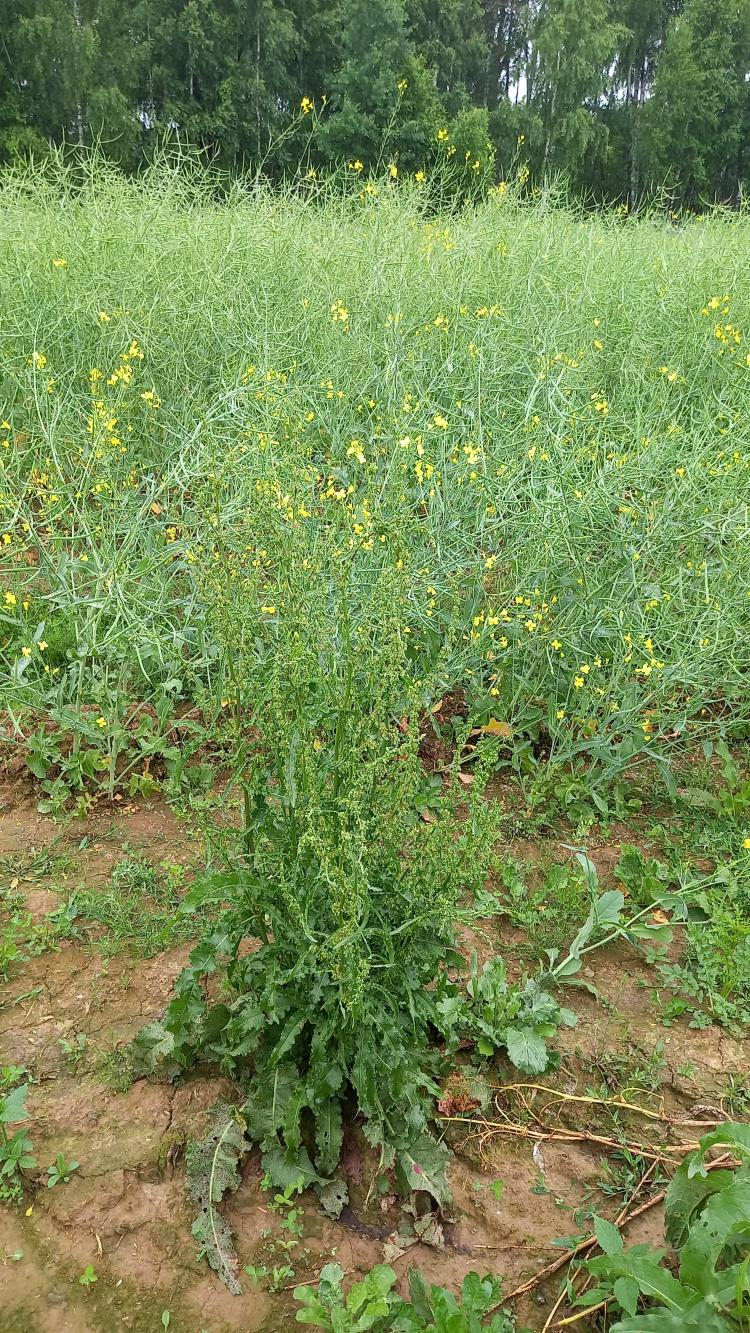zhavel: (107, 618, 582, 1243)
